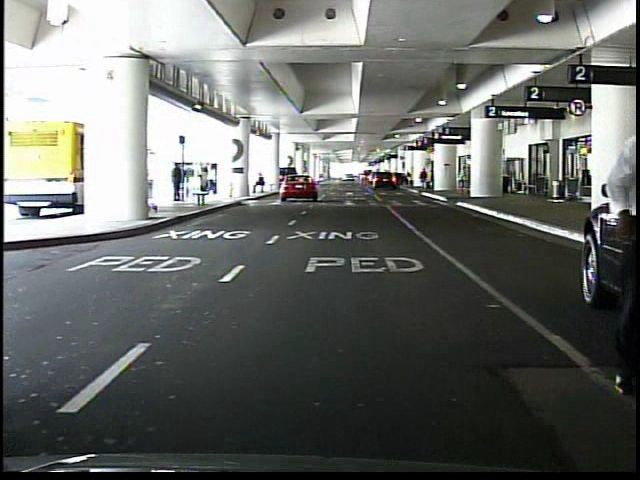person: (171, 162, 186, 205), (457, 165, 470, 196), (252, 172, 267, 196), (419, 167, 429, 192)
